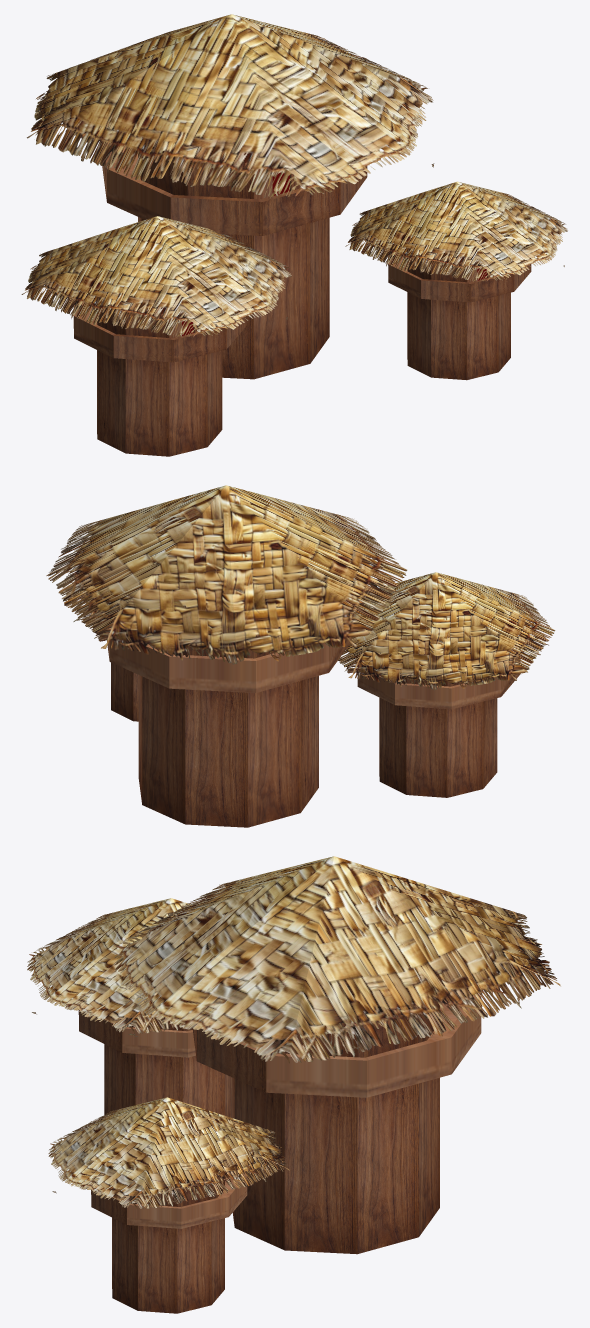
The model's file is castelo.fbx.
3 views of the same model, one above another, from view 1: azimuth 30°, elevation 25°; view 2: azimuth 150°, elevation 25°; view 3: azimuth 270°, elevation 25° (orthographic). The views are drawn at different scales.
Parts seen in each view (by area): view 1: Cone.001, Cone, Cylinder.001, Cylinder, Cone.002, Cylinder.002; view 2: Cone.001, Cylinder.001, Cone, Cylinder, Cylinder.002; view 3: Cone.001, Cylinder.001, Cone.002, Cylinder.002, Cone, Cylinder.
Part boxes in pixels (x1,y1,x2,y2): Cone.001: [27, 14, 434, 198]; Cone: [21, 216, 291, 338]; Cylinder.001: [102, 142, 367, 379]; Cylinder: [73, 299, 247, 456]; Cone.002: [345, 181, 567, 281]; Cylinder.002: [388, 250, 531, 380]; Cone.001: [46, 485, 407, 664]; Cylinder.001: [105, 612, 354, 827]; Cone: [338, 572, 555, 690]; Cylinder: [357, 657, 520, 797]; Cylinder.002: [93, 624, 138, 721]; Cone.001: [114, 856, 560, 1063]; Cylinder.001: [192, 993, 481, 1254]; Cone.002: [48, 1097, 289, 1208]; Cylinder.002: [91, 1173, 247, 1313]; Cone: [27, 898, 192, 1033]; Cylinder: [78, 1010, 230, 1117].
Bounding box in the file's own units: 1345 × 793 × 1141.
